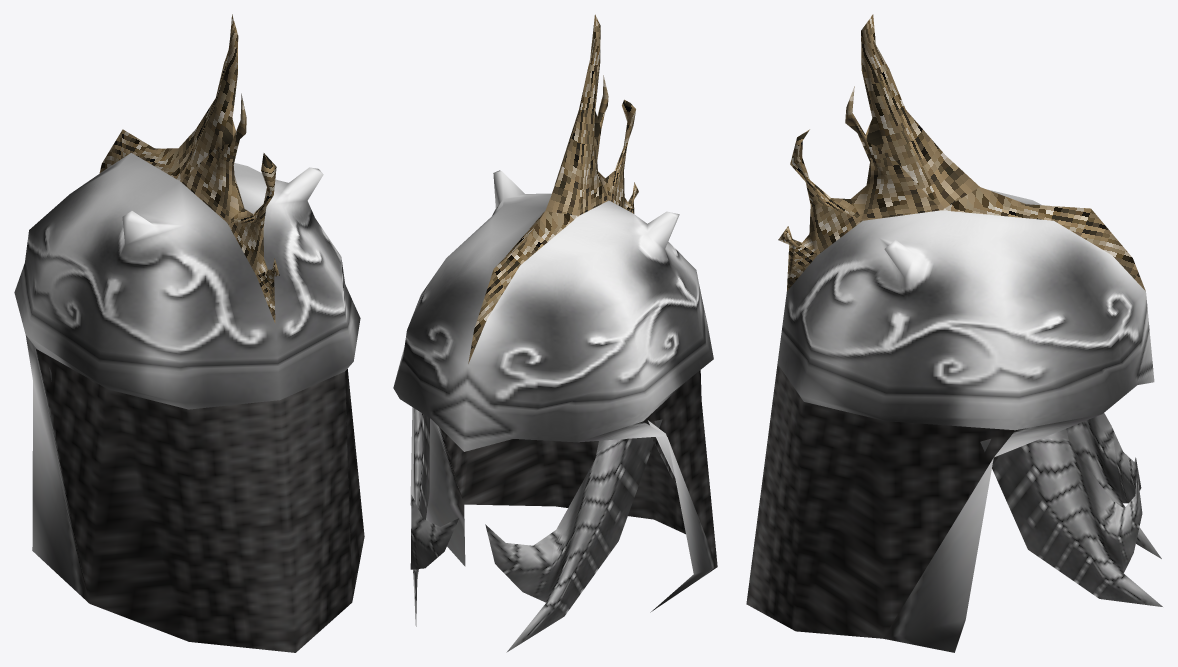
3 renders of one model, left to right at view 1: azimuth 30°, elevation 25°; view 2: azimuth 150°, elevation 25°; view 3: azimuth 270°, elevation 25°, orthographic. The views are drawn at different scales.
Parts seen in each view (by area): view 1: it560; view 2: it560; view 3: it560.
Boxes of the visible parts, box(x1,y1,x2,y2) form: it560: box(14, 14, 364, 652); it560: box(393, 14, 717, 652); it560: box(746, 14, 1162, 652).
Size of the model in its own units: 0.5882 by 1.09 by 0.6972.
4 materials, 4 textured.
